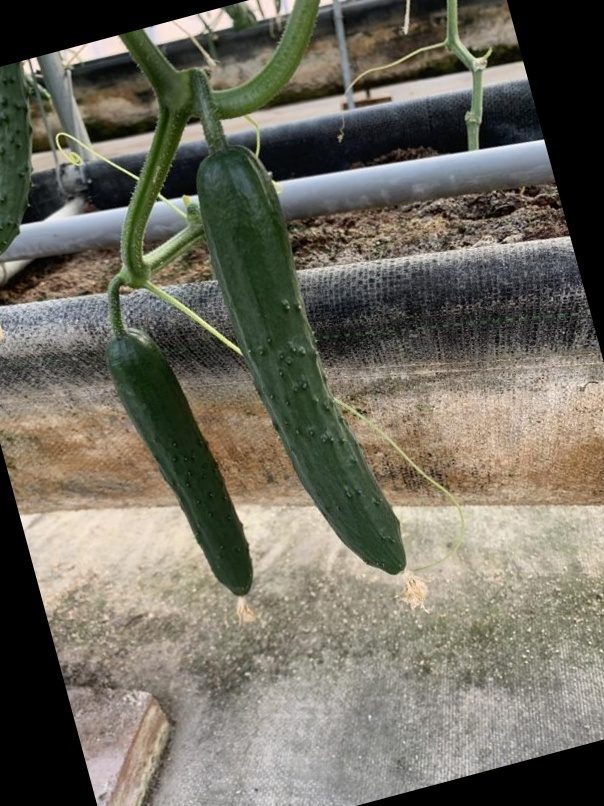mature: (195, 151, 410, 587), (99, 325, 257, 599)
